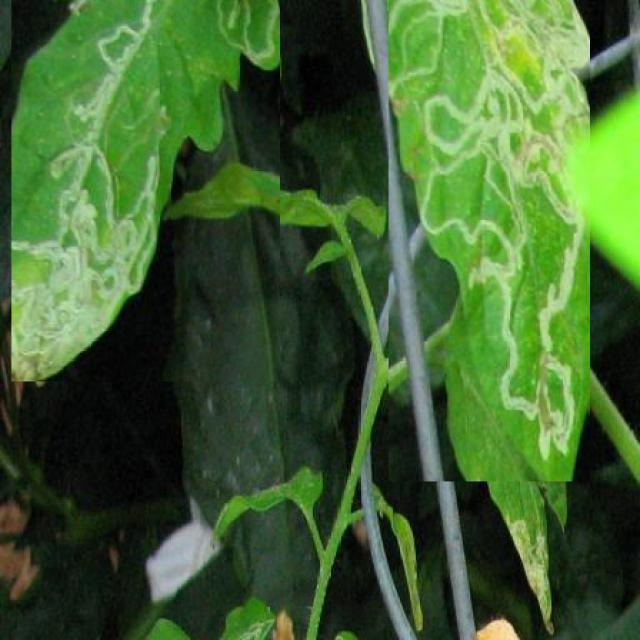Leaf Miner: (12, 0, 280, 381), (388, 0, 590, 481)
